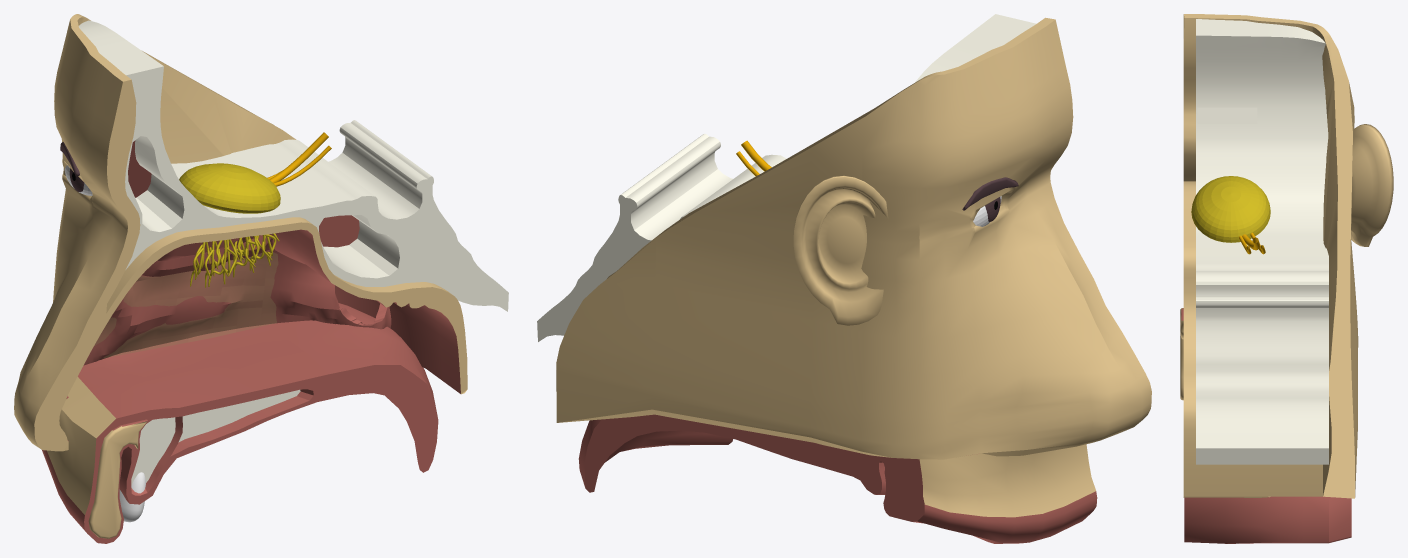
File: anatomi_hidung_nose_anatomy.glb
The picture shows the model from 3 angles, left to right: view 1: azimuth 30°, elevation 25°; view 2: azimuth 150°, elevation 25°; view 3: azimuth 270°, elevation 25°; orthographic projection. The views are drawn at different scales.
Visible parts, largest first — view 1: Plane.001_2, Plane.003_4, Plane.014_24, Plane.006_9, Plane.011_21, Plane.013_23, Plane.008_14, Sphere.003_12, Plane.007_10, Plane.009_15, Plane.004_5, Plane.005_6 (+3 smaller); view 2: Plane.014_24, Plane.003_4, Plane.001_2, Plane.009_15, Sphere.002_11, Plane.012_22; view 3: Plane.001_2, Plane.013_23, Plane.012_22, Plane.003_4, Sphere.002_11, Sphere.003_12, Plane.014_24, Plane.005_6.
Part boxes in pixels (<box>): Plane.001_2: <box>78,20,508,311</box>; Plane.003_4: <box>42,303,438,543</box>; Plane.014_24: <box>14,19,127,449</box>; Plane.006_9: <box>83,233,391,365</box>; Plane.011_21: <box>34,79,467,451</box>; Plane.013_23: <box>77,17,453,313</box>; Plane.008_14: <box>95,252,277,357</box>; Sphere.003_12: <box>179,163,280,287</box>; Plane.007_10: <box>66,229,460,441</box>; Plane.009_15: <box>46,377,115,514</box>; Plane.004_5: <box>131,389,300,485</box>; Plane.005_6: <box>88,421,147,538</box>; Plane.014_24: <box>556,20,1151,459</box>; Plane.003_4: <box>578,414,1097,543</box>; Plane.001_2: <box>537,14,1036,341</box>; Plane.009_15: <box>919,444,1095,517</box>; Sphere.002_11: <box>793,175,888,325</box>; Plane.012_22: <box>556,17,1055,391</box>; Plane.001_2: <box>1196,19,1328,464</box>; Plane.013_23: <box>1183,18,1337,496</box>; Plane.012_22: <box>1184,14,1354,498</box>; Plane.003_4: <box>1181,308,1351,543</box>; Sphere.002_11: <box>1351,124,1393,246</box>; Sphere.003_12: <box>1191,176,1270,242</box>; Plane.014_24: <box>1331,82,1358,497</box>; Plane.005_6: <box>1180,308,1183,400</box>.
Size of the model in its own units: 3.5 by 3.22 by 1.55.
